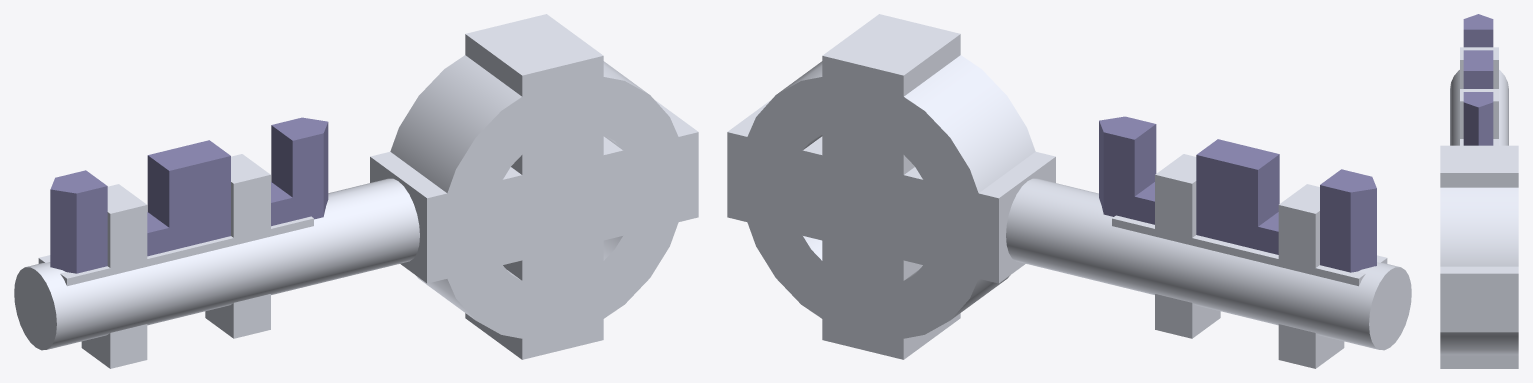
Rendered from key.glb.
3 renders of one model, left to right at view 1: azimuth 30°, elevation 25°; view 2: azimuth 150°, elevation 25°; view 3: azimuth 270°, elevation 25°, orthographic. The views are drawn at different scales.
Parts seen in each view (by area): view 1: mergedBlocks(Clone); view 2: mergedBlocks(Clone); view 3: mergedBlocks(Clone).
Part boxes in pixels (x1,y1,x2,y2): mergedBlocks(Clone): (14,14,698,368); mergedBlocks(Clone): (727,14,1411,368); mergedBlocks(Clone): (1440,14,1518,368).
Bounding box in the file's own units: 2.57 × 1.1 × 0.4.
1 material, 1 textured.
